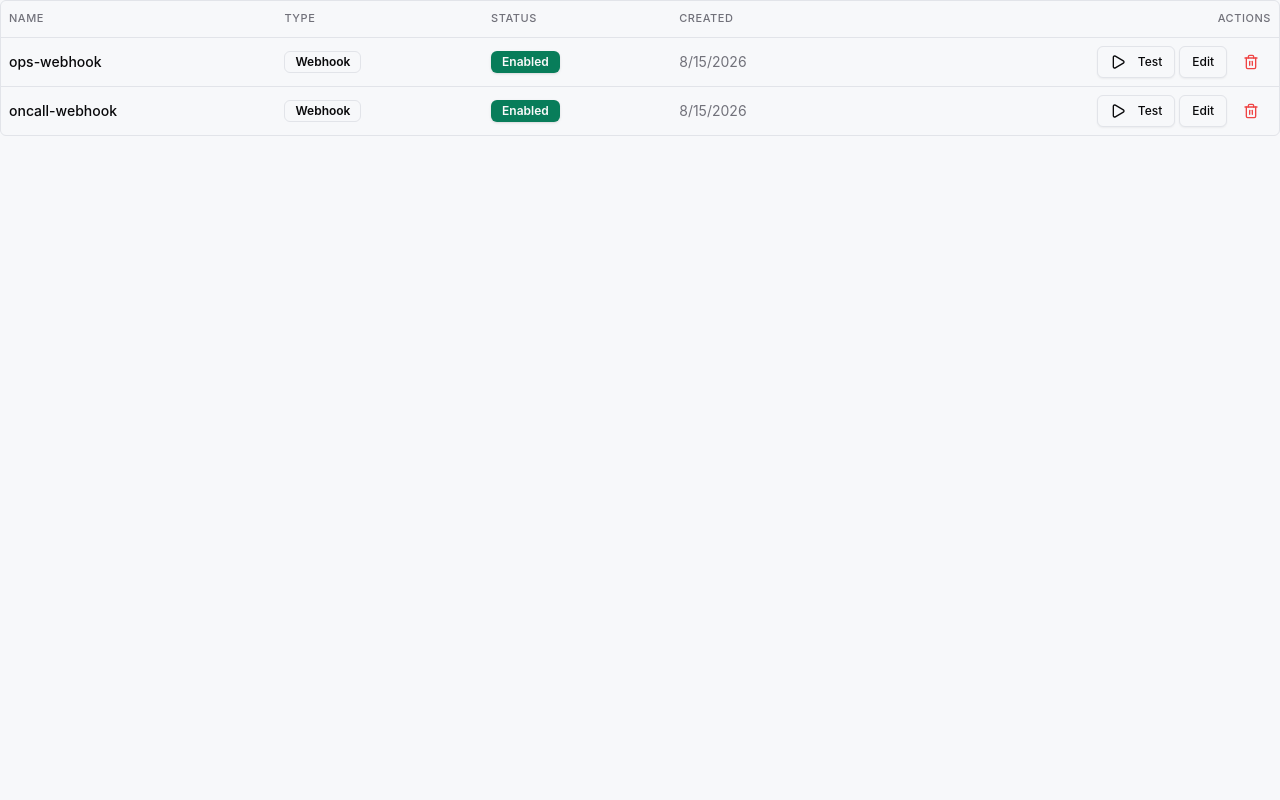
Test: ChannelsTable — delete › Cancel sends nothing
The width and height of the screenshot is (1280, 800).
Click the button named "Delete oncall-webhook". click: (1251, 110)
box: [1231,94,1271,126]
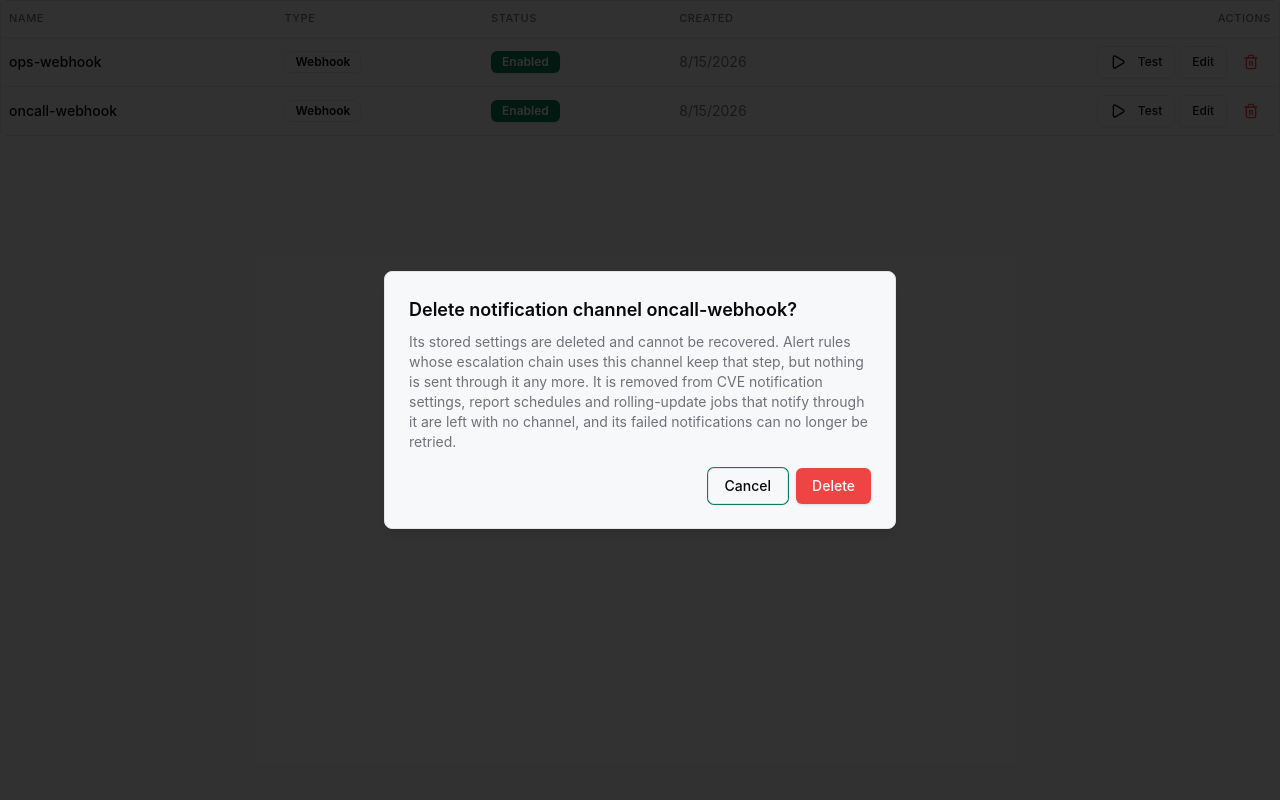
Click the button "Cancel". click: (748, 486)
box: [708,468,788,504]
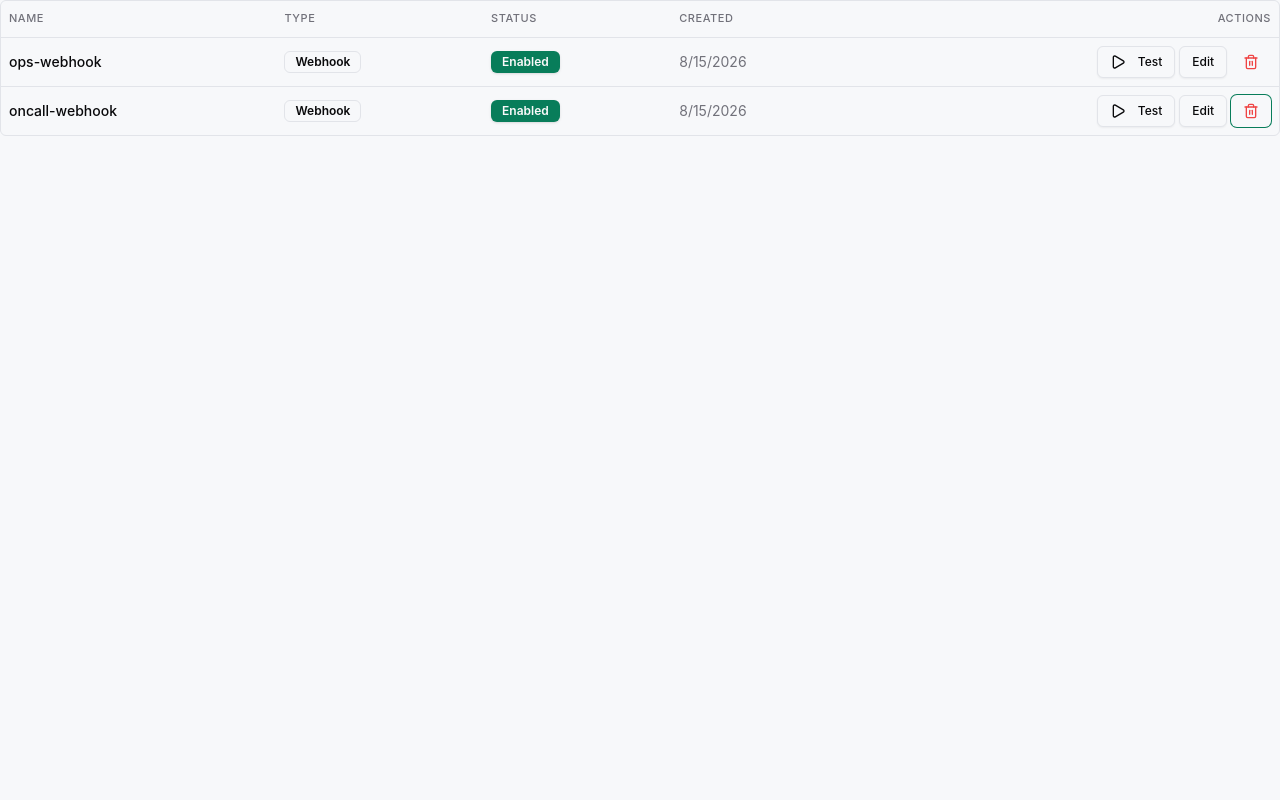
Expected: the dialog is gone
